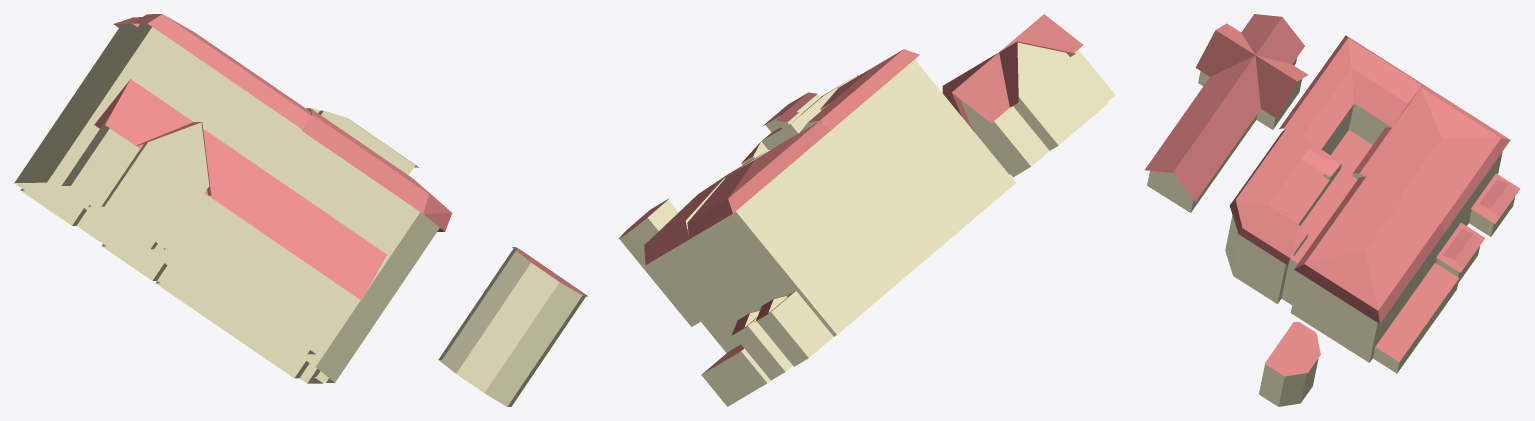
File: tile_077.glb
3 renders of one model, left to right at view 1: azimuth 30°, elevation 25°; view 2: azimuth 150°, elevation 25°; view 3: azimuth 270°, elevation 25°, orthographic. The views are drawn at different scales.
Visible parts, largest first — view 1: Batched_Building_ID_315C81C4-6C89-4A38-A655-32FBA1AADF24; view 2: Batched_Building_ID_315C81C4-6C89-4A38-A655-32FBA1AADF24; view 3: Batched_Building_ID_315C81C4-6C89-4A38-A655-32FBA1AADF24.
Part boxes in pixels (x1=…): Batched_Building_ID_315C81C4-6C89-4A38-A655-32FBA1AADF24: x1=14, y1=14, x2=587, y2=406; Batched_Building_ID_315C81C4-6C89-4A38-A655-32FBA1AADF24: x1=618, y1=14, x2=1115, y2=406; Batched_Building_ID_315C81C4-6C89-4A38-A655-32FBA1AADF24: x1=1145, y1=14, x2=1520, y2=406.
Bounding box in the file's own units: 71.59 × 55.06 × 66.53.
